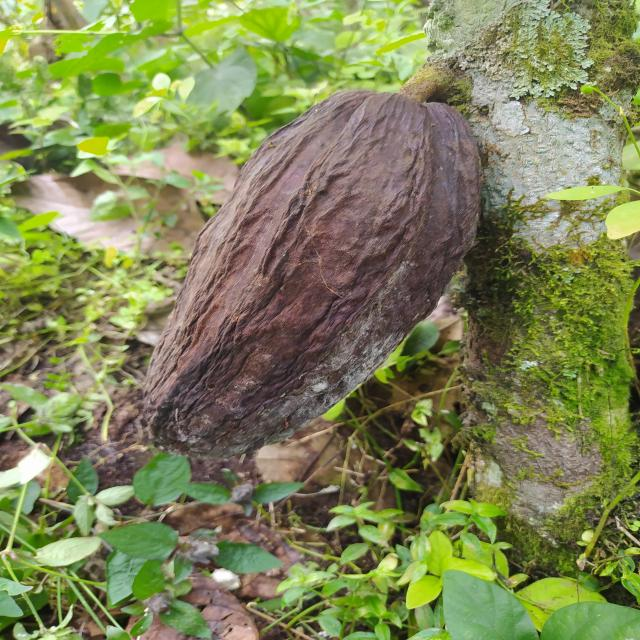Fitoftora: (141, 89, 483, 458)
